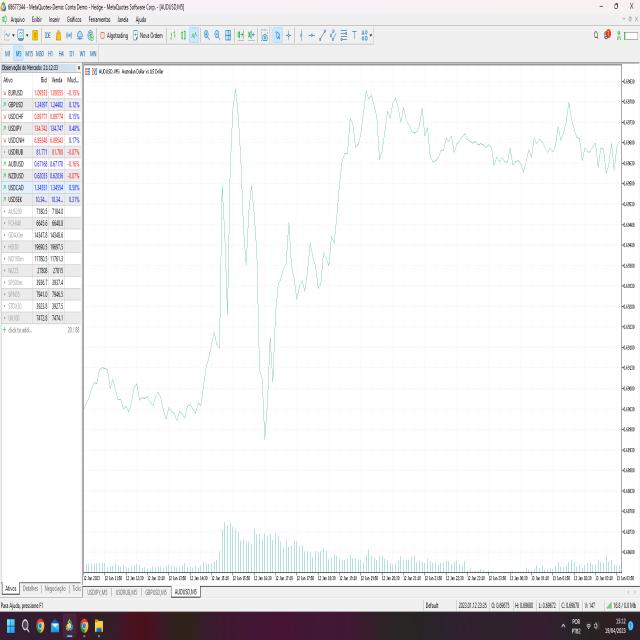bandeira_alta: (320, 75, 412, 295)
oco: (203, 82, 267, 336)
